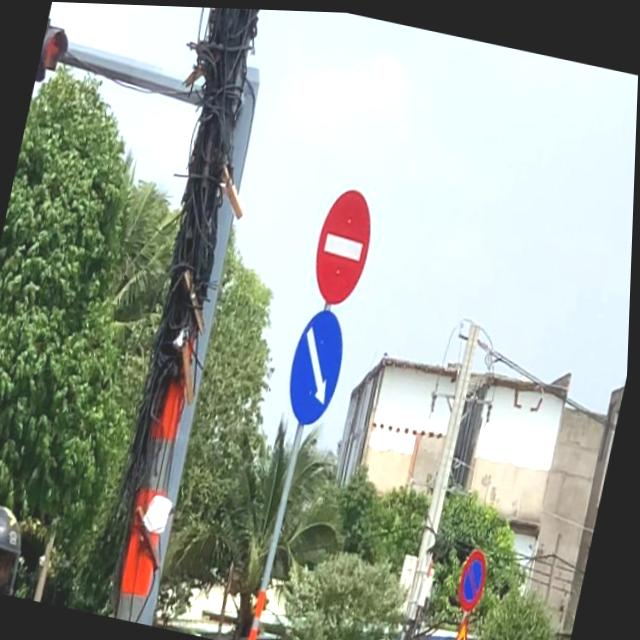Cam di nguoc chieu: (306, 179, 382, 308)
Cam do xe: (458, 543, 495, 610)
Vong chuong ngai vat sang phai: (282, 301, 354, 428)
cho ngoat nguy hiem vong ben phai: (449, 607, 483, 640)
